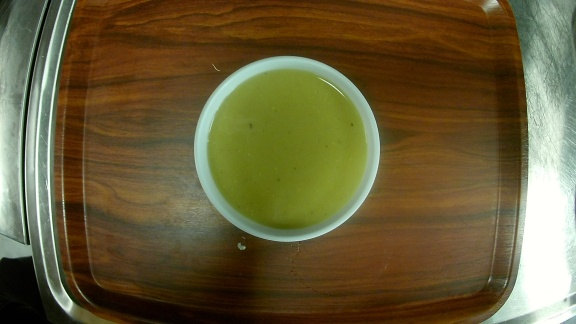mercimek: (190, 51, 384, 245)
